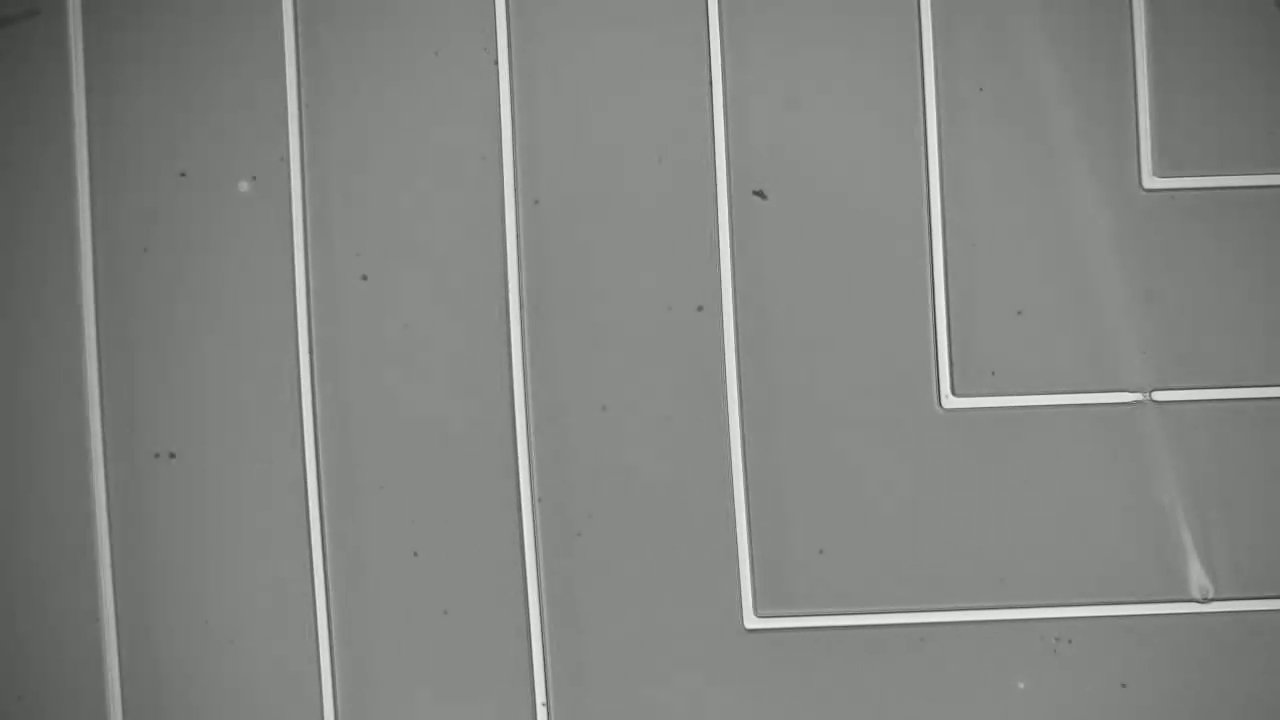open: (1125, 375, 1169, 419)
